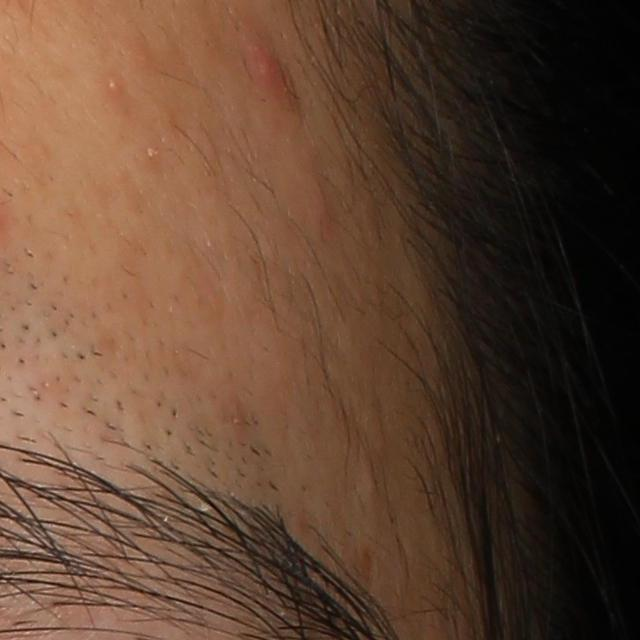papule: (246, 26, 292, 99)
